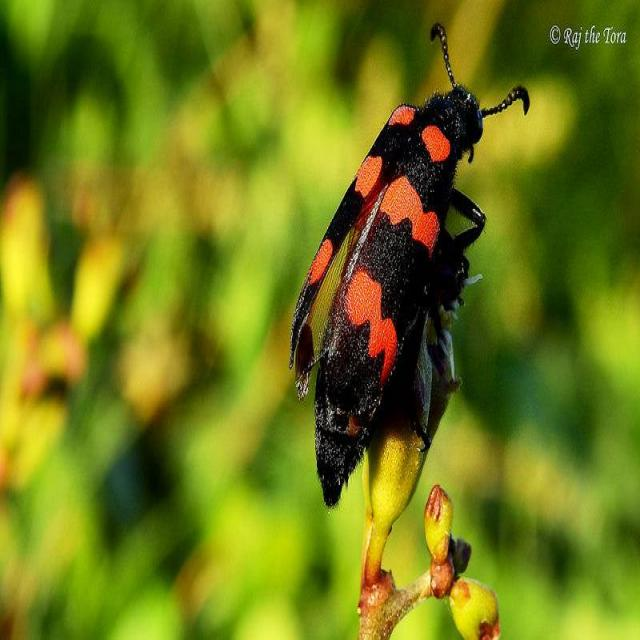BlisterBeetle-Adult-: (288, 17, 540, 517)
